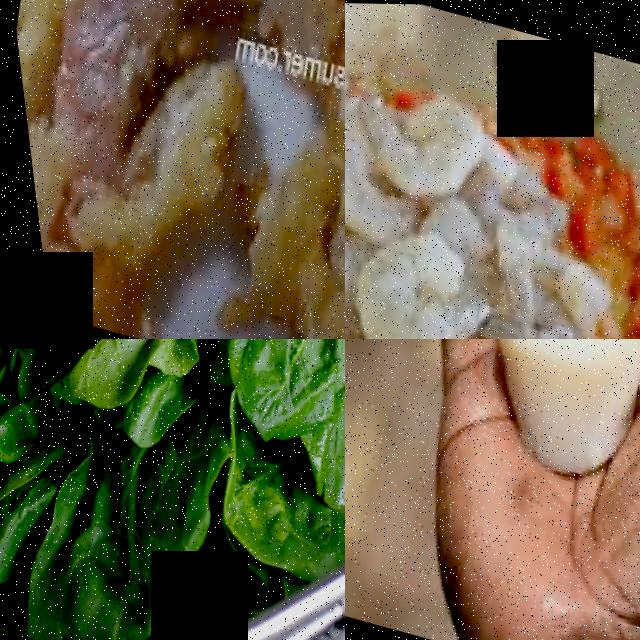sea scallops: (439, 339, 640, 481)
spinach: (0, 420, 219, 640), (345, 214, 489, 339), (186, 339, 345, 452), (186, 435, 311, 574), (364, 76, 495, 205)
